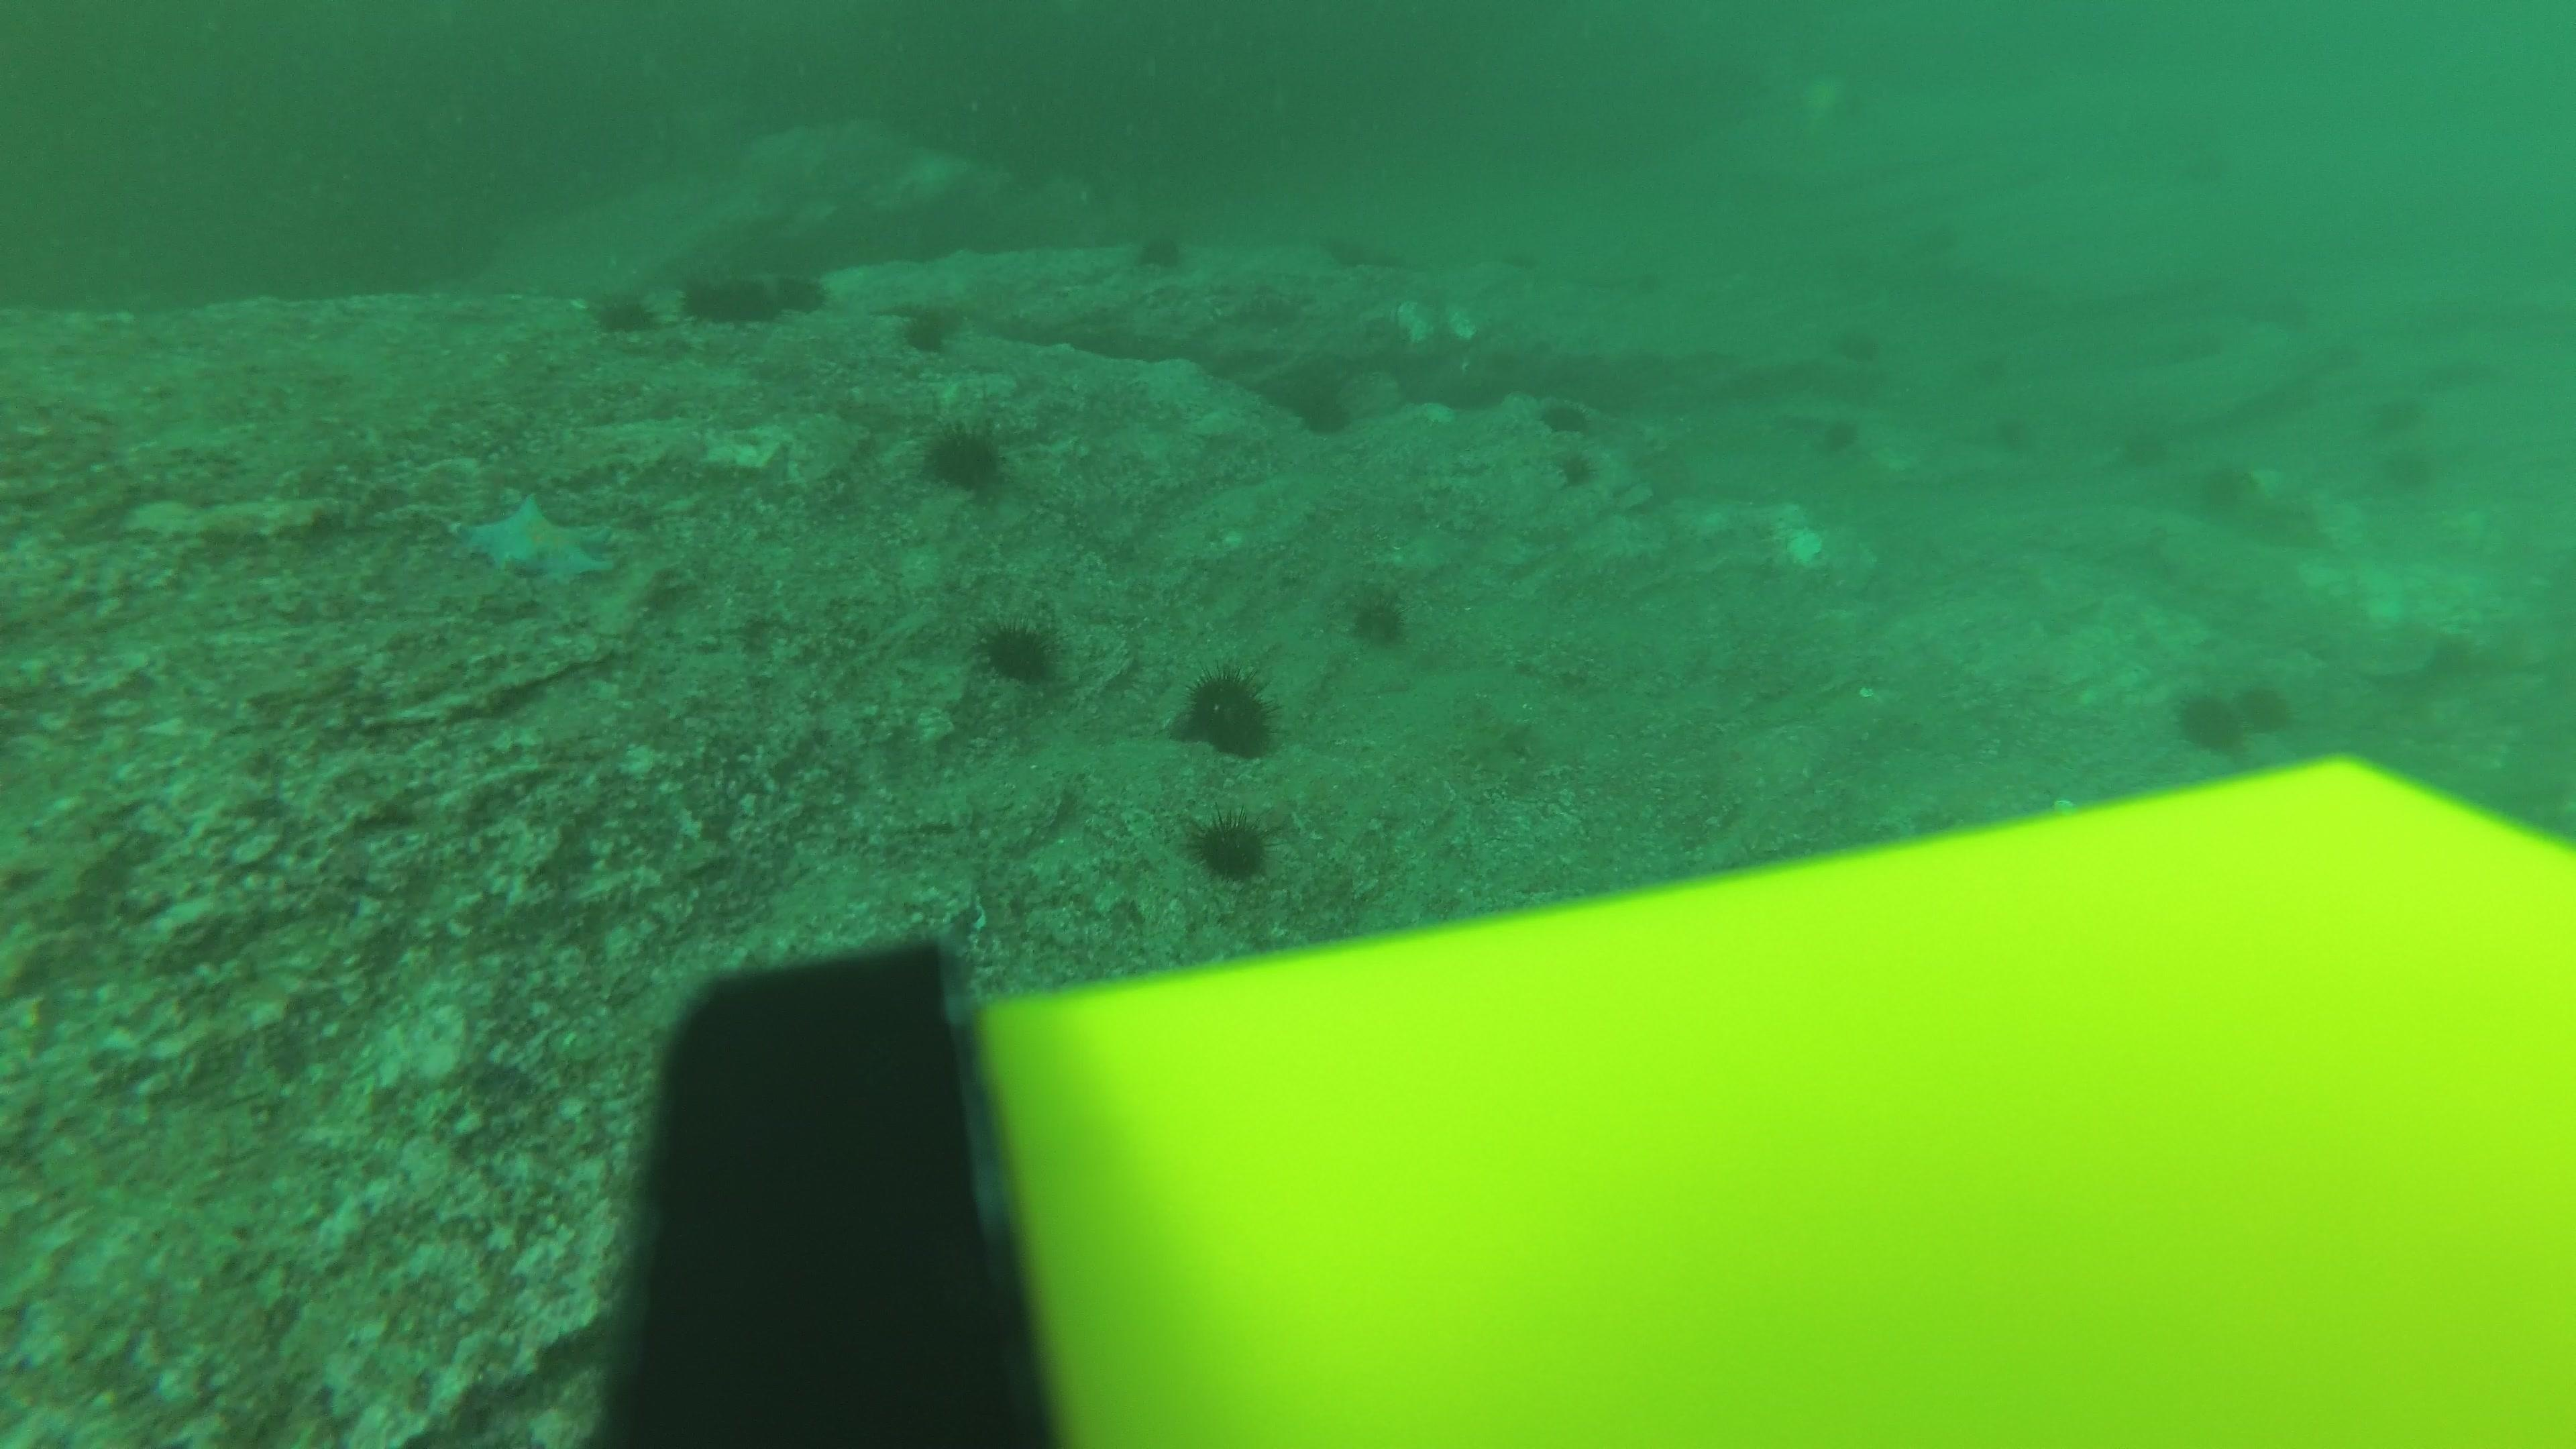echinus: (1175, 663, 1281, 759), (920, 416, 1010, 497), (1187, 809, 1274, 885), (975, 614, 1063, 688), (1284, 370, 1361, 439), (1343, 580, 1414, 649), (2187, 455, 2258, 522), (2169, 692, 2242, 752), (895, 297, 962, 357), (587, 283, 658, 340), (2160, 320, 2226, 375), (2362, 389, 2426, 444), (2367, 455, 2431, 510), (2233, 674, 2298, 727), (2116, 421, 2180, 474), (1982, 403, 2045, 456), (676, 283, 748, 329), (1129, 223, 1191, 276), (1534, 393, 1598, 439), (1545, 441, 1601, 492), (1904, 209, 1960, 260), (1835, 318, 1890, 370), (1311, 223, 1366, 274), (1819, 409, 1875, 458), (2259, 281, 2318, 322), (2180, 150, 2231, 193), (1966, 341, 2017, 379), (1355, 235, 1401, 274), (1495, 246, 1543, 283), (1631, 269, 1667, 304)
starfish: (449, 487, 623, 589), (718, 258, 824, 317)
